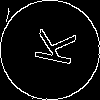K: (25, 25, 76, 68)
